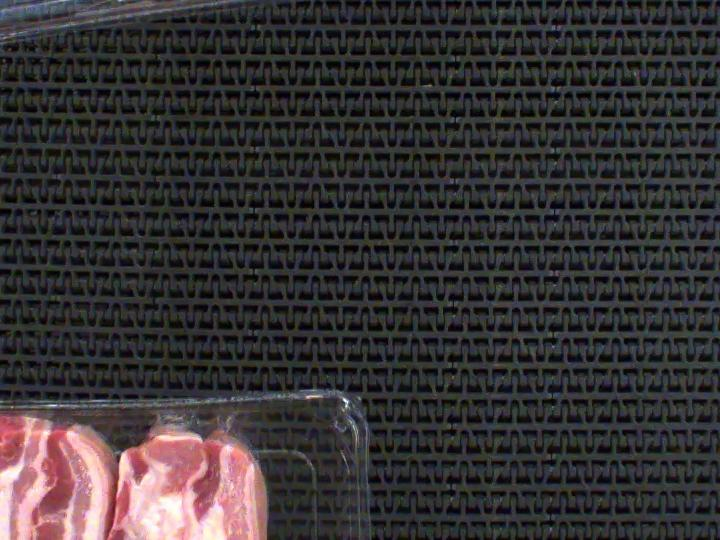packaging-error: (141, 402, 299, 456)
